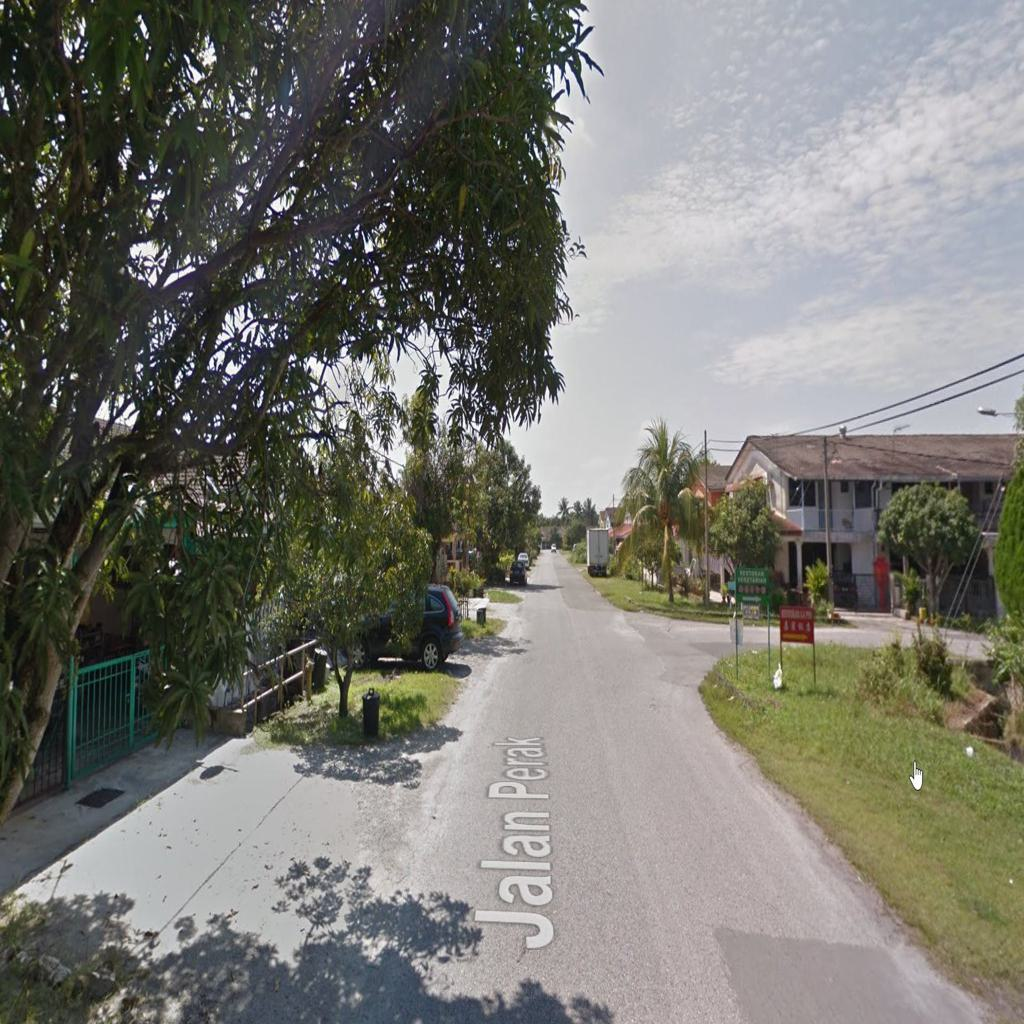Junction: (617, 596, 762, 710)
